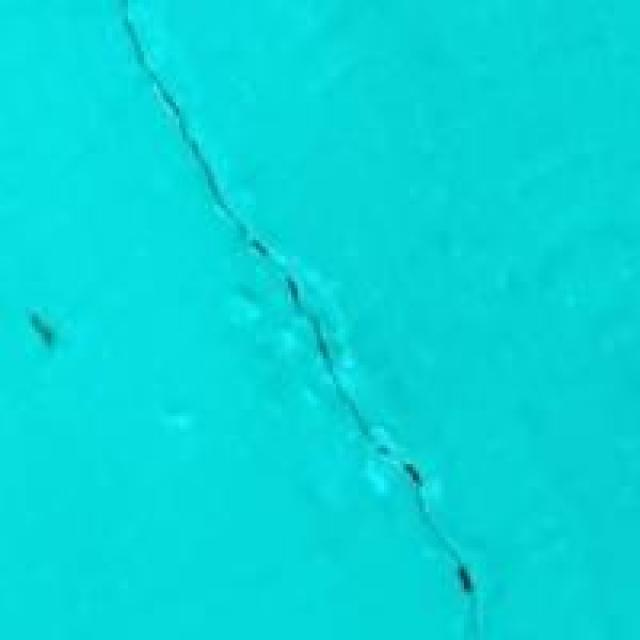Crack: (115, 8, 477, 578)
